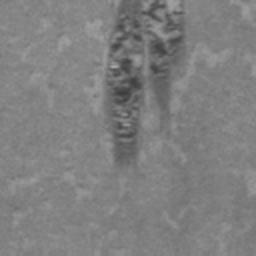Oxide scale of plate system: (100, 0, 192, 168)
